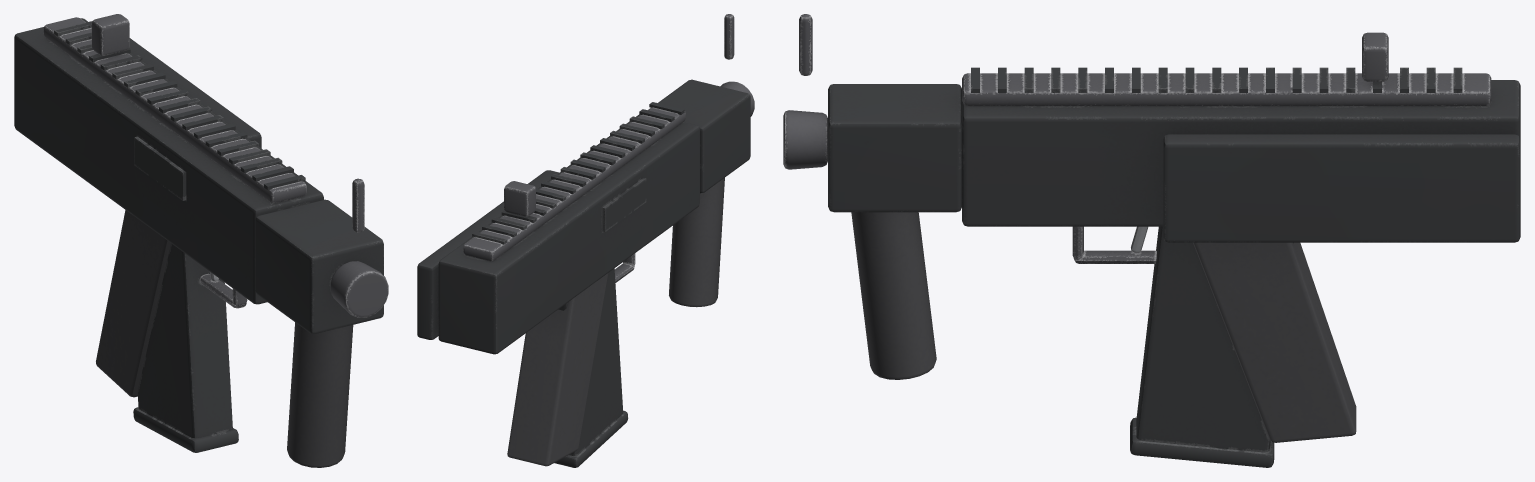
3 renders of one model, left to right at view 1: azimuth 30°, elevation 25°; view 2: azimuth 150°, elevation 25°; view 3: azimuth 270°, elevation 25°, orthographic. The views are drawn at different scales.
Visible parts, largest first — view 1: mp9; view 2: mp9; view 3: mp9.
Part boxes in pixels (x1=…): mp9: x1=14, y1=14, x2=388, y2=467; mp9: x1=417, y1=14, x2=754, y2=467; mp9: x1=783, y1=14, x2=1520, y2=467.
Size of the model in its own units: 0.059 by 0.2186 by 0.33.
